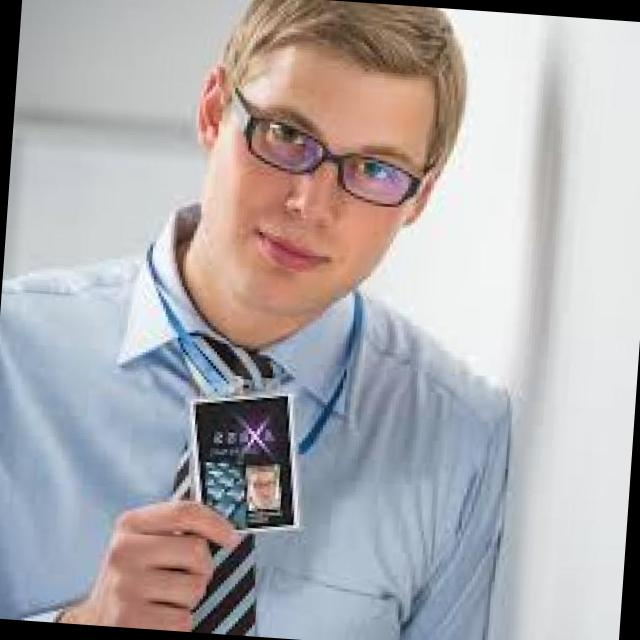id_card: (138, 263, 365, 528)
